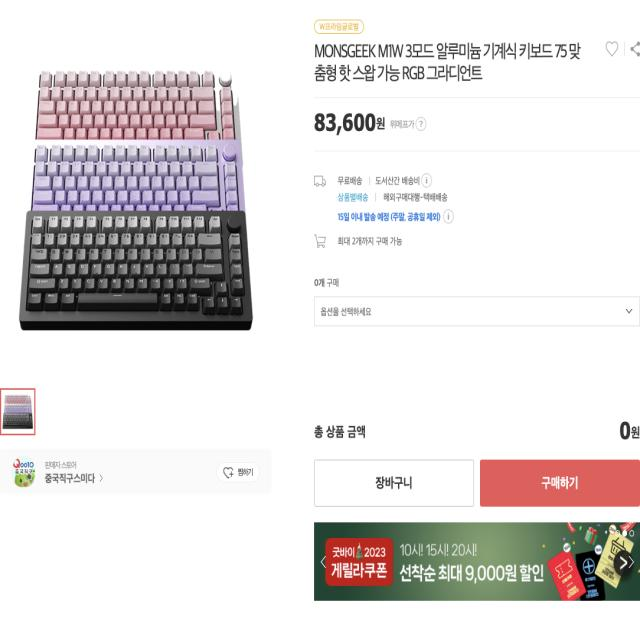product_name: (311, 39, 585, 86)
product_original_price: (312, 111, 398, 142)
